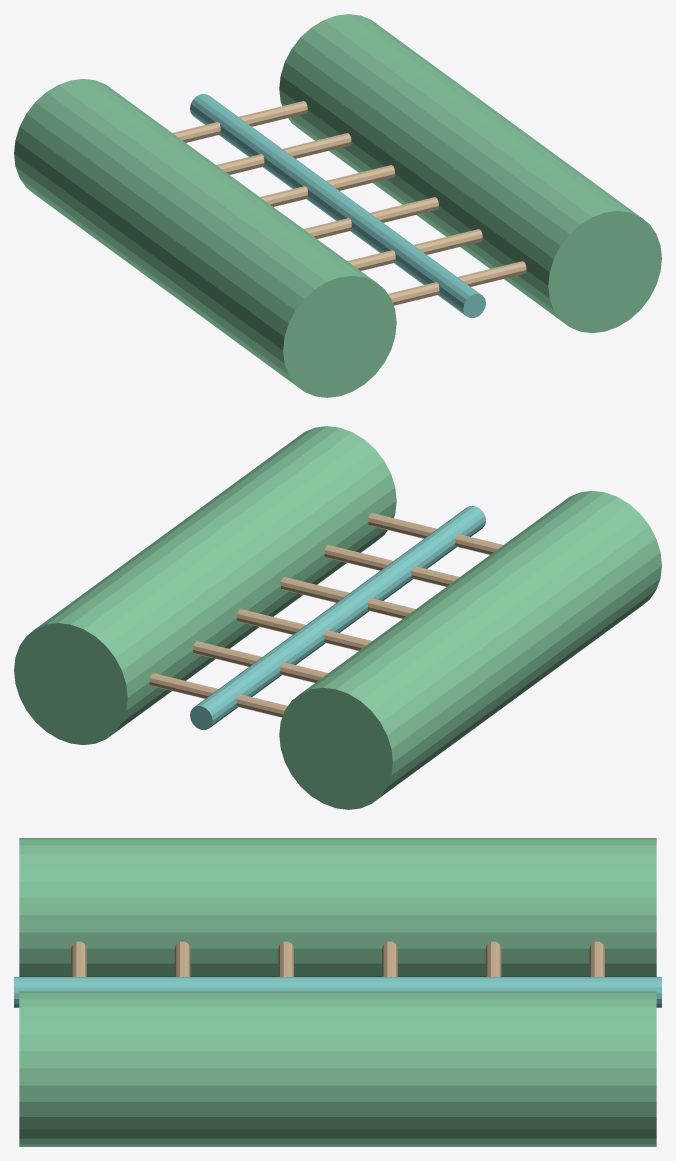
File: leviathan.glb
The picture shows the model from 3 angles, top to bottom: view 1: azimuth 30°, elevation 25°; view 2: azimuth 150°, elevation 25°; view 3: azimuth 270°, elevation 25°; orthographic projection. The views are drawn at different scales.
Parts seen in each view (by area): view 1: drum_10_21, drum_11_23, spine_0, drum_1_3, drum_9_19, drum_0_1, drum_7_15, drum_5_11, drum_2_5, drum_3_7, drum_6_13, drum_4_9 (+13 smaller); view 2: drum_1_3, drum_0_1, spine_0, drum_3_7, drum_11_23, drum_4_9, drum_8_17, drum_10_21, drum_9_19, drum_5_11, drum_7_15, drum_2_5 (+13 smaller); view 3: drum_0_1, drum_6_13, drum_4_9, drum_10_21, drum_8_17, drum_2_5, drum_1_3, drum_7_15, drum_5_11, drum_9_19, drum_11_23, drum_3_7 (+7 smaller).
Part boxes in pixels (x1=…): drum_10_21: x1=499, y1=175, x2=661, y2=332; drum_11_23: x1=234, y1=240, x2=396, y2=397; spine_0: x1=190, y1=94, x2=485, y2=317; drum_1_3: x1=14, y1=79, x2=149, y2=229; drum_9_19: x1=190, y1=207, x2=329, y2=357; drum_0_1: x1=279, y1=14, x2=420, y2=164; drum_7_15: x1=145, y1=175, x2=282, y2=326; drum_5_11: x1=103, y1=143, x2=243, y2=293; drum_2_5: x1=323, y1=46, x2=458, y2=197; drum_3_7: x1=58, y1=112, x2=192, y2=260; drum_6_13: x1=410, y1=110, x2=552, y2=259; drum_4_9: x1=367, y1=78, x2=506, y2=224; drum_1_3: x1=279, y1=652, x2=442, y2=809; drum_0_1: x1=14, y1=586, x2=177, y2=744; spine_0: x1=190, y1=506, x2=485, y2=729; drum_3_7: x1=352, y1=619, x2=486, y2=769; drum_11_23: x1=520, y1=491, x2=661, y2=638; drum_4_9: x1=126, y1=522, x2=265, y2=671; drum_8_17: x1=217, y1=458, x2=352, y2=609; drum_10_21: x1=261, y1=426, x2=396, y2=576; drum_9_19: x1=483, y1=524, x2=614, y2=671; drum_5_11: x1=392, y1=587, x2=529, y2=732; drum_7_15: x1=439, y1=555, x2=573, y2=701; drum_2_5: x1=86, y1=554, x2=221, y2=704; drum_0_1: x1=537, y1=991, x2=656, y2=1146; drum_6_13: x1=226, y1=991, x2=345, y2=1146; drum_4_9: x1=330, y1=991, x2=449, y2=1146; drum_10_21: x1=19, y1=991, x2=138, y2=1146; drum_8_17: x1=123, y1=991, x2=241, y2=1146; drum_2_5: x1=434, y1=991, x2=552, y2=1146; drum_1_3: x1=537, y1=838, x2=656, y2=976; drum_7_15: x1=226, y1=838, x2=345, y2=976; drum_5_11: x1=330, y1=838, x2=449, y2=976; drum_9_19: x1=123, y1=838, x2=241, y2=976; drum_11_23: x1=19, y1=838, x2=138, y2=976; drum_3_7: x1=434, y1=838, x2=552, y2=976.
Size of the model in its own units: 2 by 0.6 by 2.5.
